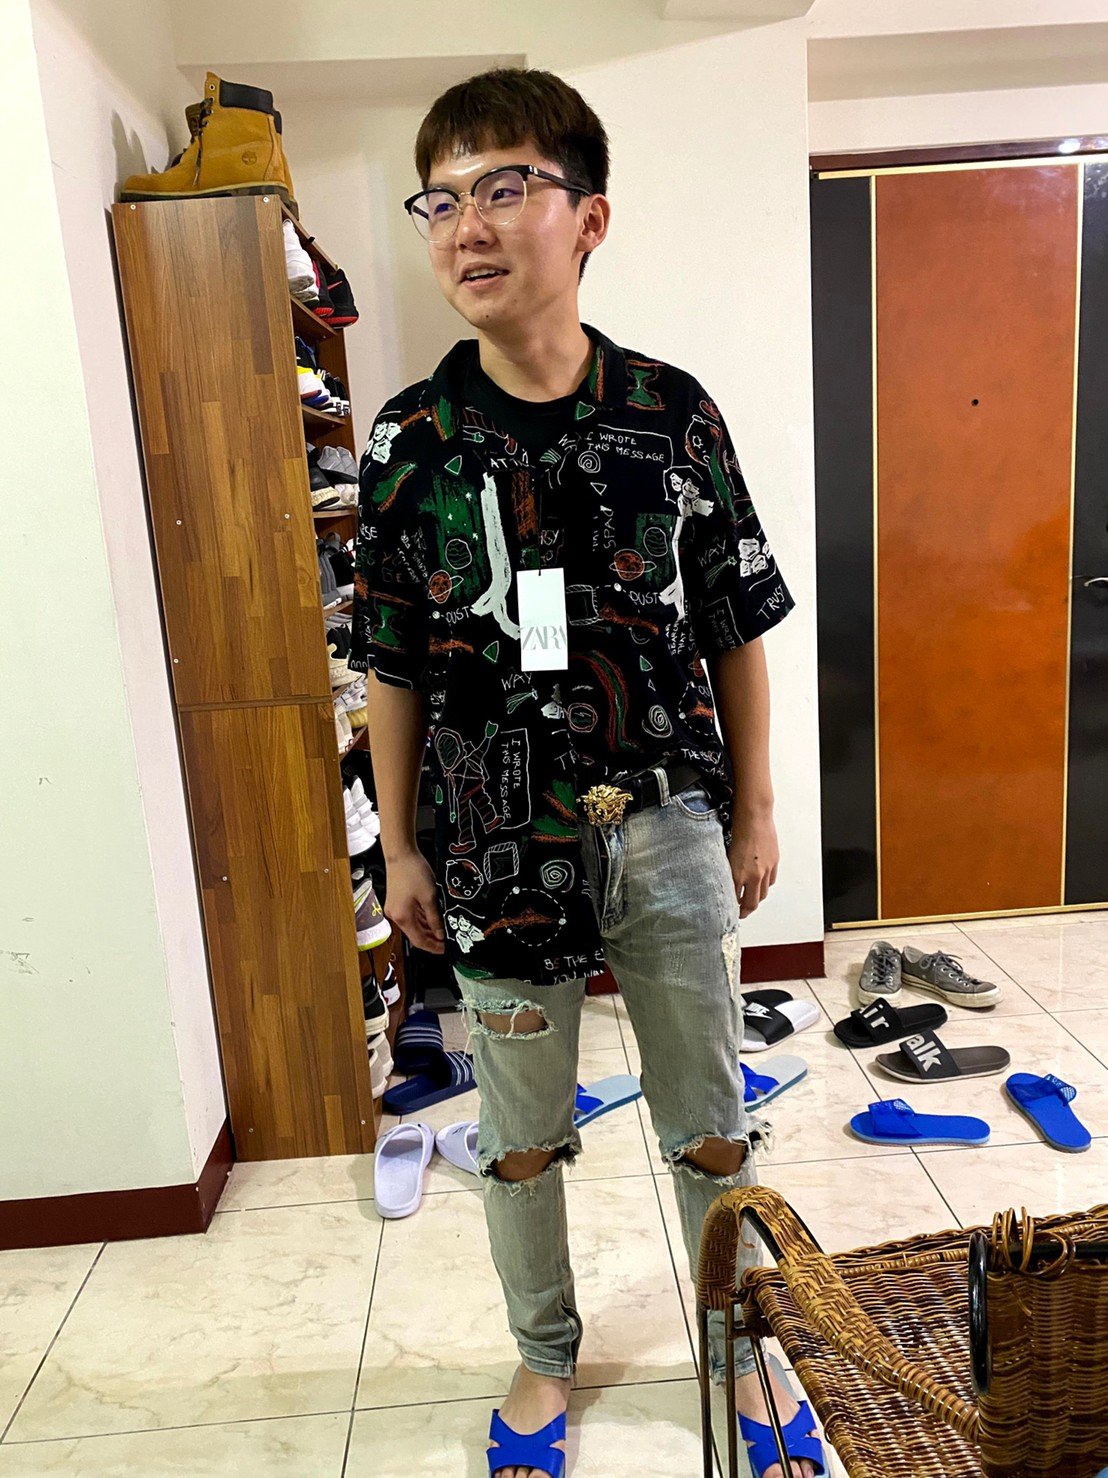people: (369, 78, 800, 1457)
